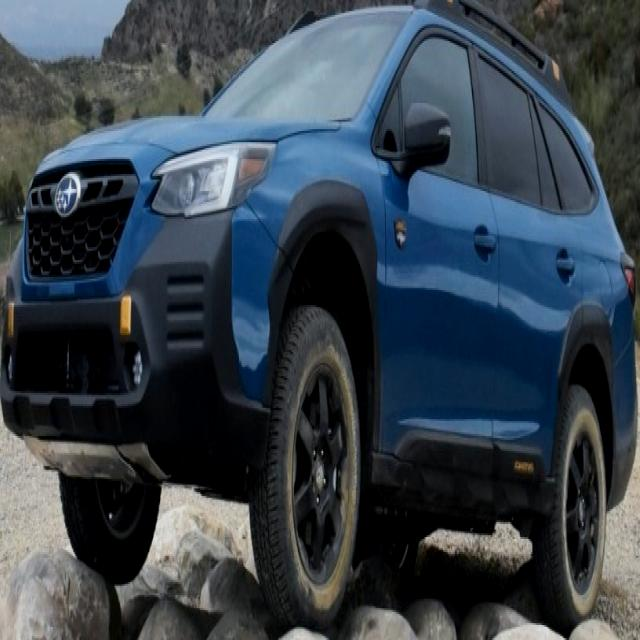blue: (0, 27, 632, 575)
